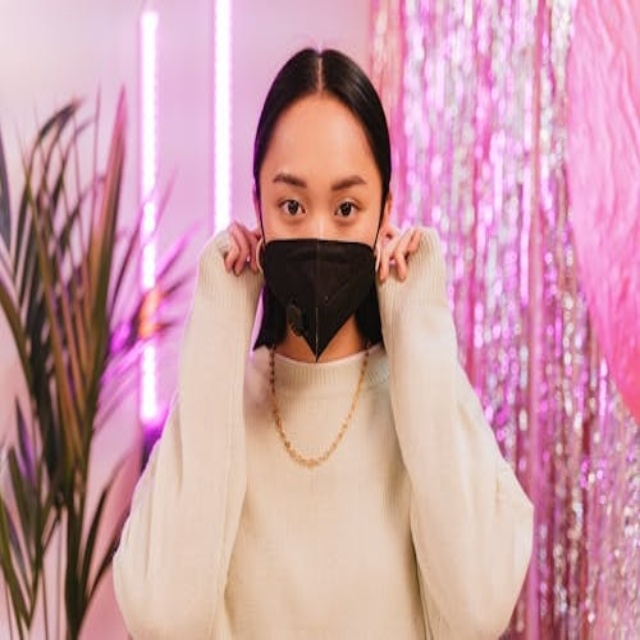Mascara: (257, 224, 379, 360)
Sin_gafas: (268, 160, 364, 223)
